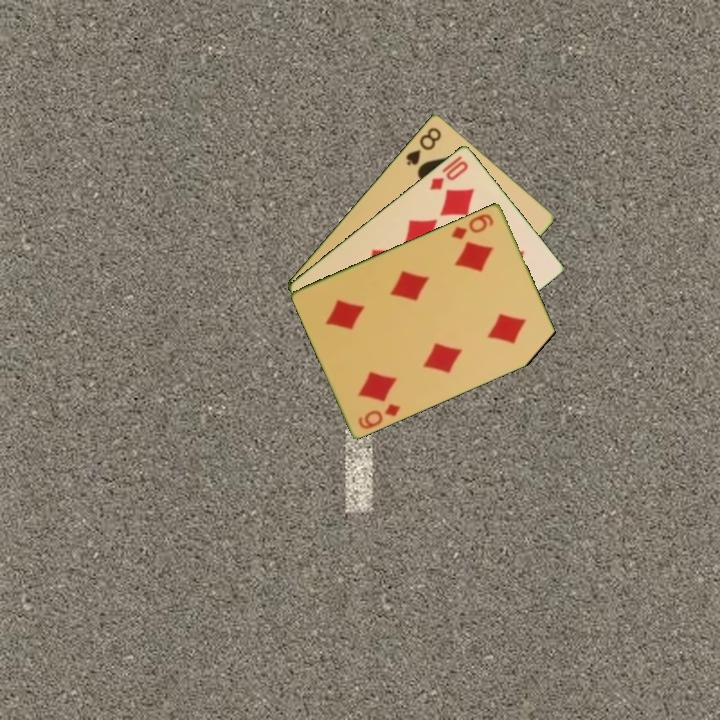10d: (426, 152, 471, 193)
6d: (447, 210, 497, 242), (355, 400, 404, 432)
8s: (402, 123, 444, 168)
